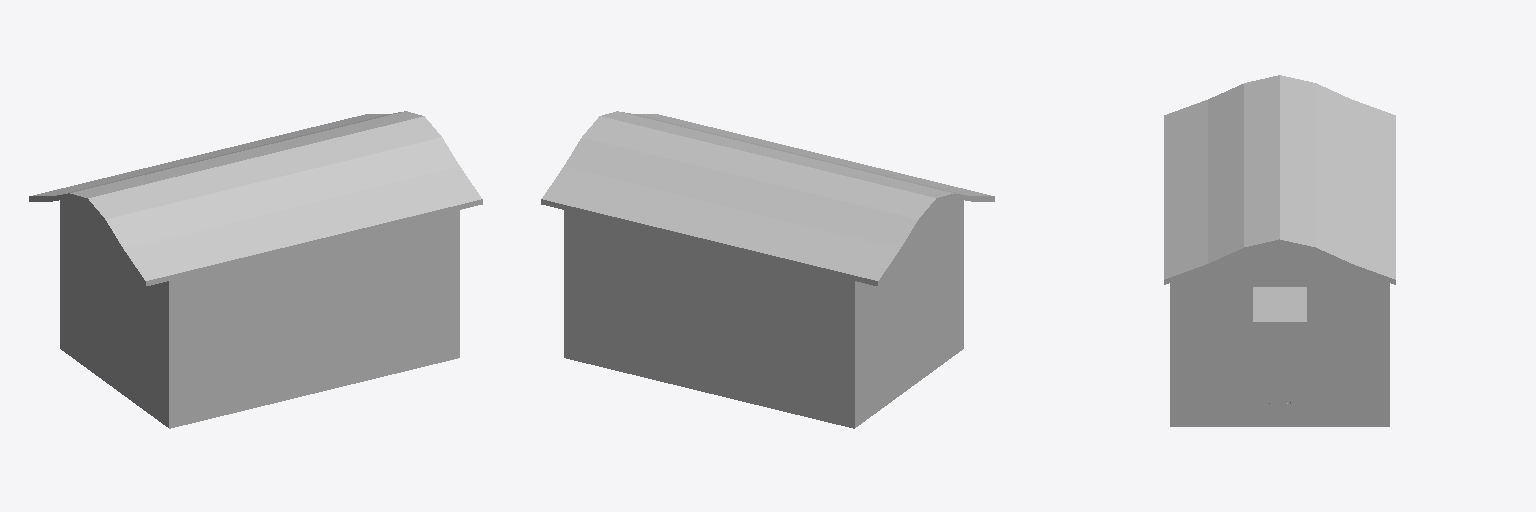
File: BarnInterior.obj
The picture shows the model from 3 angles: view 1: azimuth 30°, elevation 25°; view 2: azimuth 150°, elevation 25°; view 3: azimuth 270°, elevation 25°; orthographic projection.
Parts seen in each view (by area): view 1: pCube4, pCube39, pCube1; view 2: pCube3, pCube39, pCube1, pCube5; view 3: pCube39, pCube5, pCube2, pCube7, pCube41, pCube9, pCube8, pCube11, pCube1, pCube4.
Part boxes in pixels (x1,y1,x2,y2): pCube4: (167,211,459,428); pCube39: (29,111,482,285); pCube1: (60,199,167,426); pCube3: (564,211,856,428); pCube39: (541,111,994,285); pCube1: (851,199,962,427); pCube5: (564,210,567,358); pCube39: (1164,75,1395,284); pCube5: (1307,273,1389,426); pCube2: (1170,273,1252,426); pCube7: (1253,320,1306,369); pCube41: (1199,245,1360,272); pCube9: (1280,370,1306,426); pCube8: (1253,370,1279,426); pCube11: (1253,293,1306,319); pCube1: (1253,273,1306,286); pCube4: (1170,282,1174,426).
Size of the model in its own units: 43.51 by 24.38 by 26.